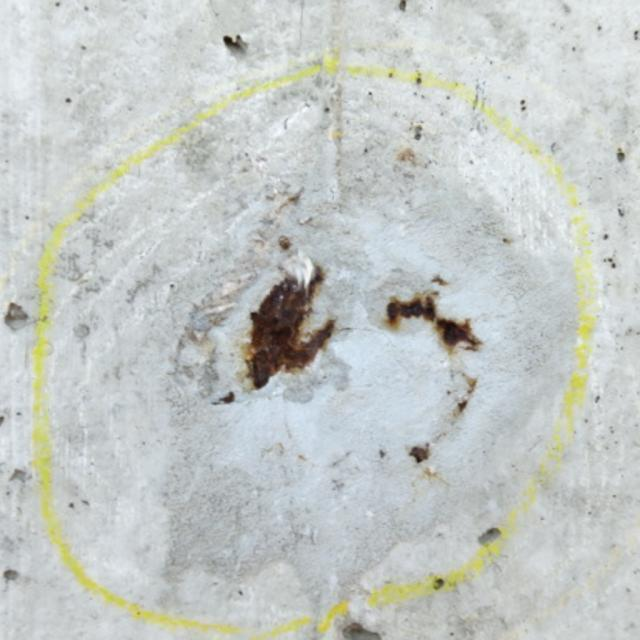D0w0: (242, 266, 333, 393)
